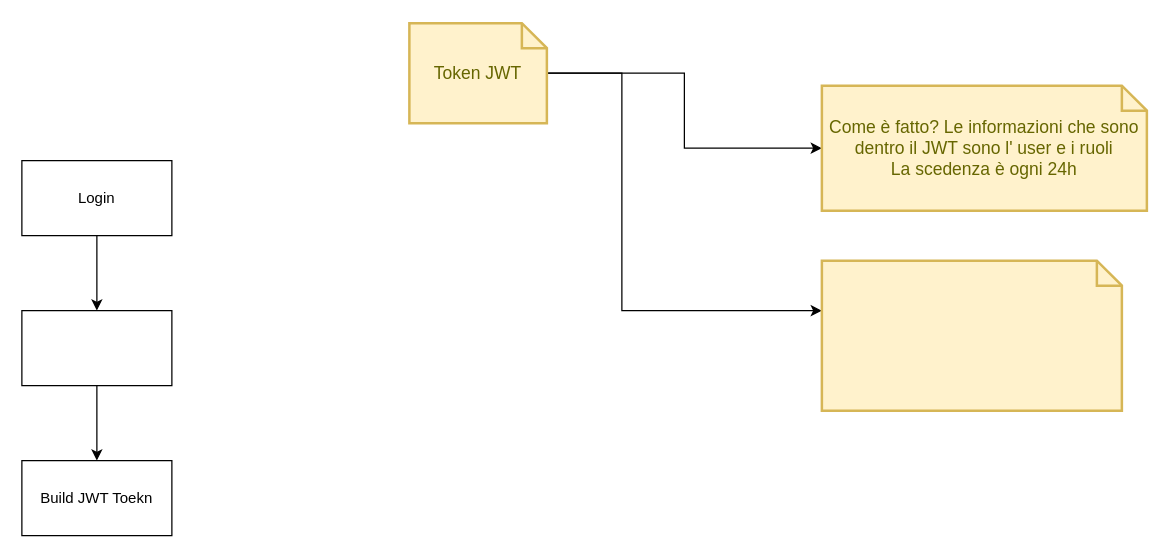
Some shapes in this 1170 by 558 pixel diagram are drawn without their labels. Here are the shapes that lost their labels. From the top down, the centre of each, then its label:
(96,347): Check Provider
(971,335): Rotta per il Refresh
